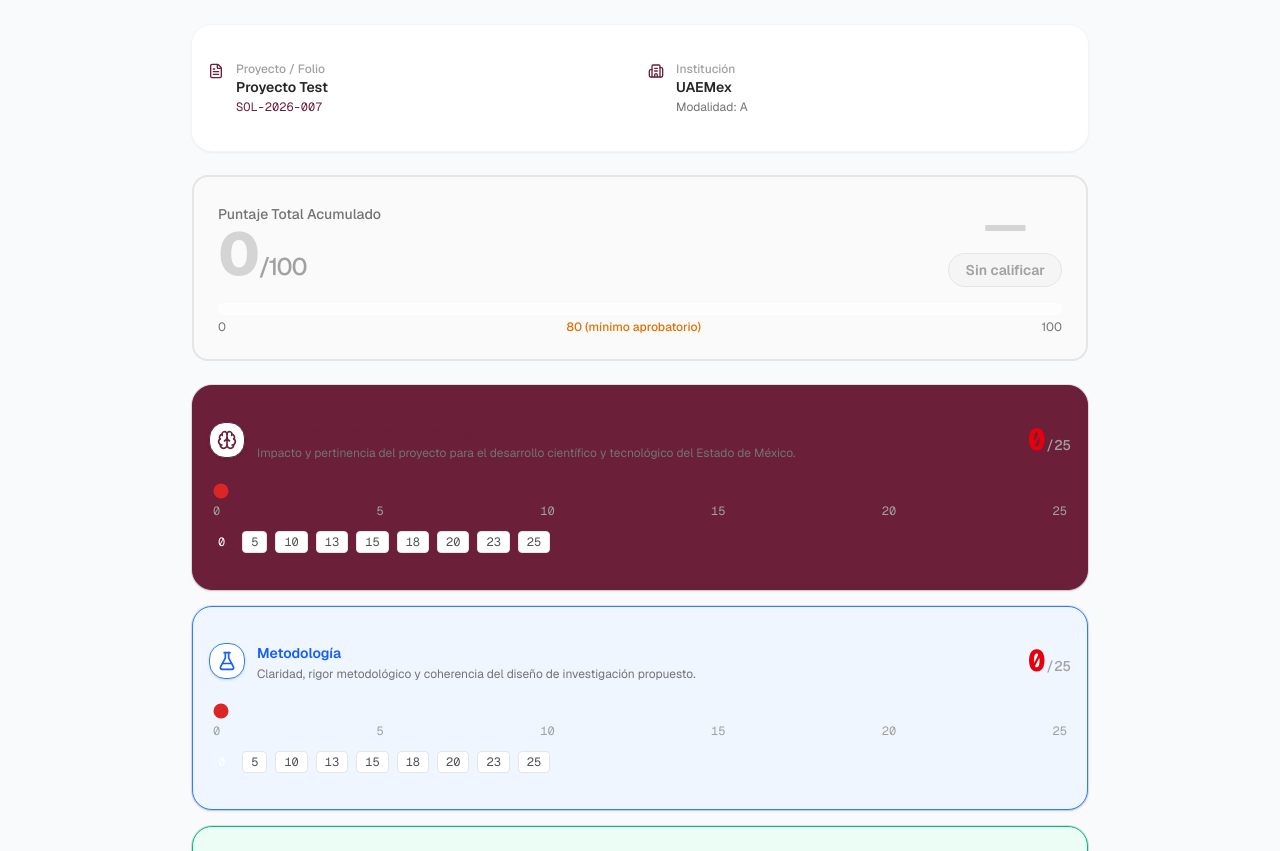
Test: RubricaEvaluacionPage › sumar puntajes vía los sliders calcula correctamente el total
Check: the text "Proyecto Test" is shown, box [236,77,328,97]
Set the slider below "Relevancia Científica / Tecnológica" to "20": (891, 490) [213,486,1067,494]
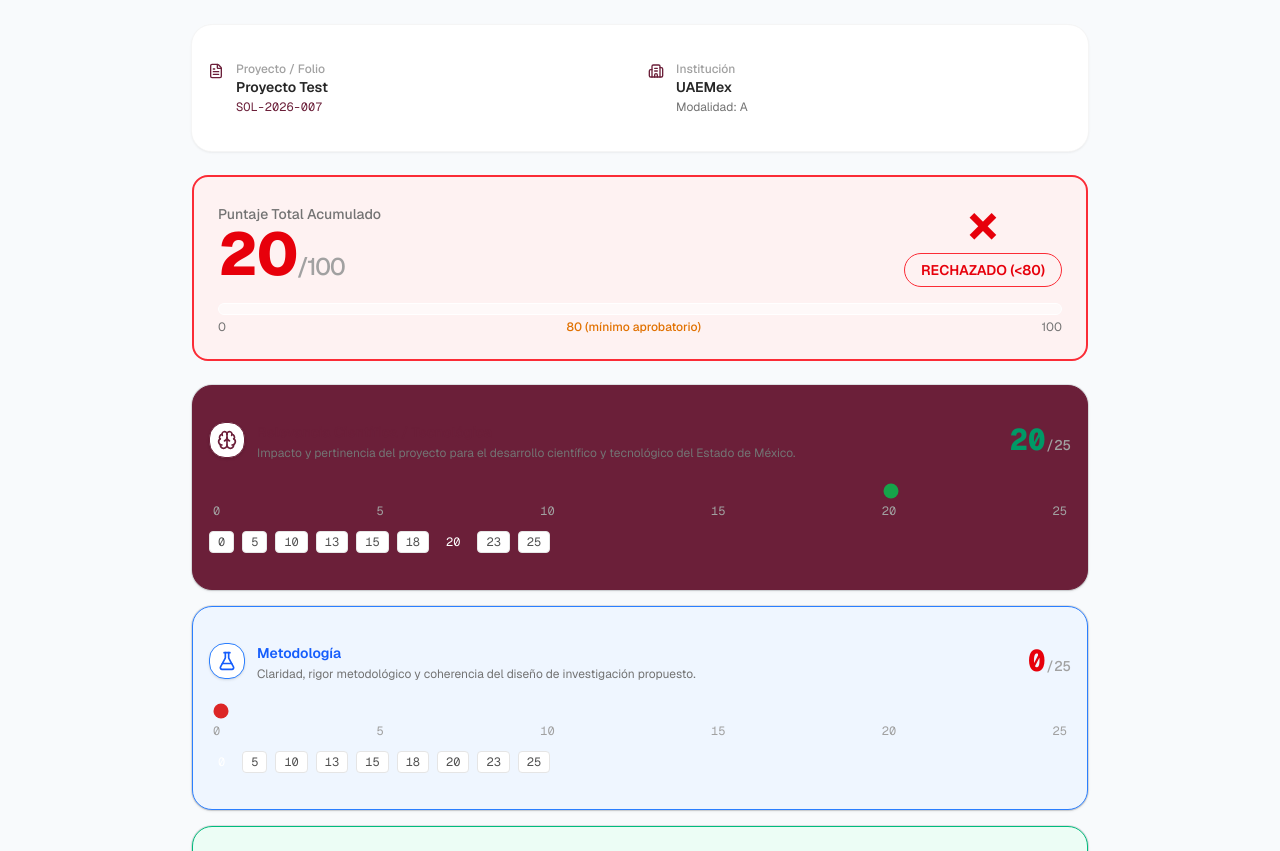
Set the slider below "Metodología" to "15": (724, 711) [213,707,1067,715]
(page scrolled)
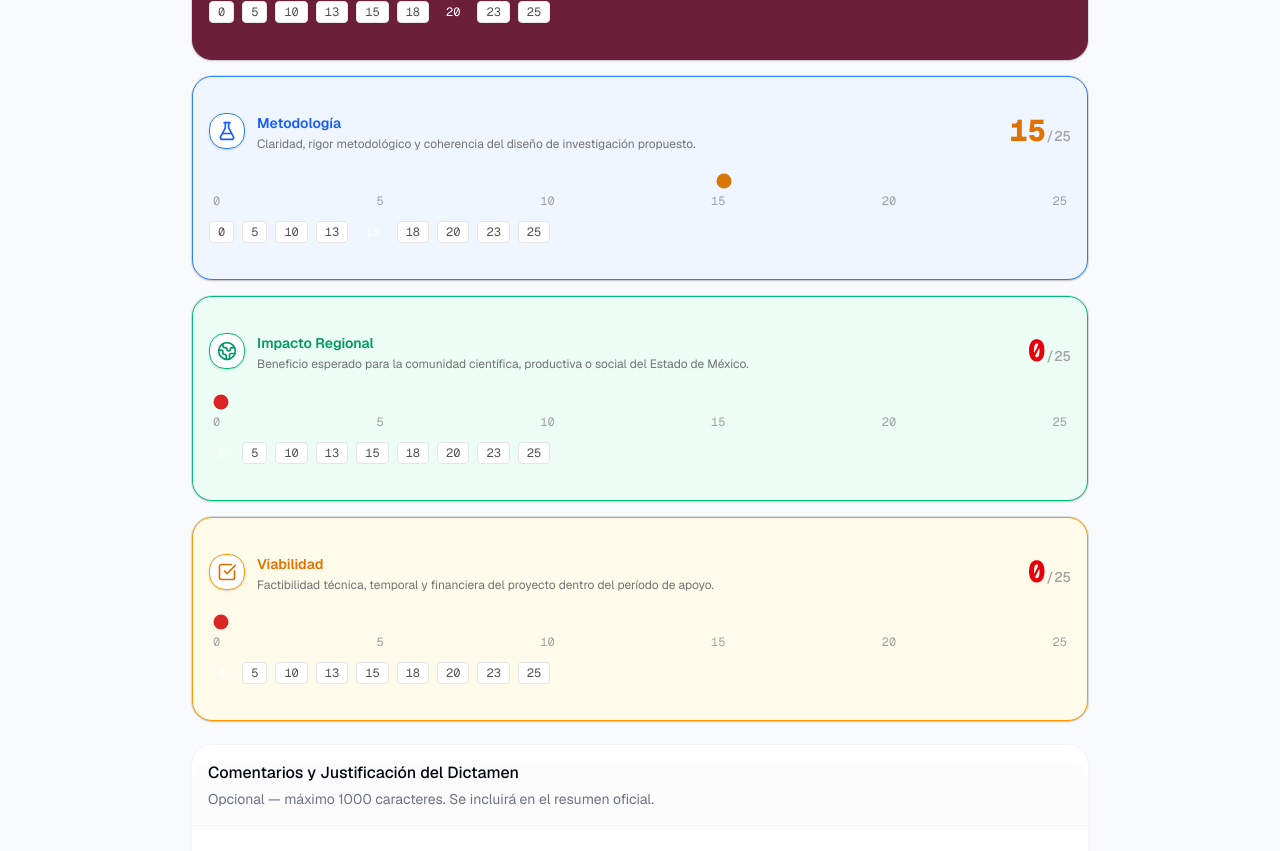
Set the slider below "Impacto Regional" to "25": (1059, 402) [213,398,1067,406]
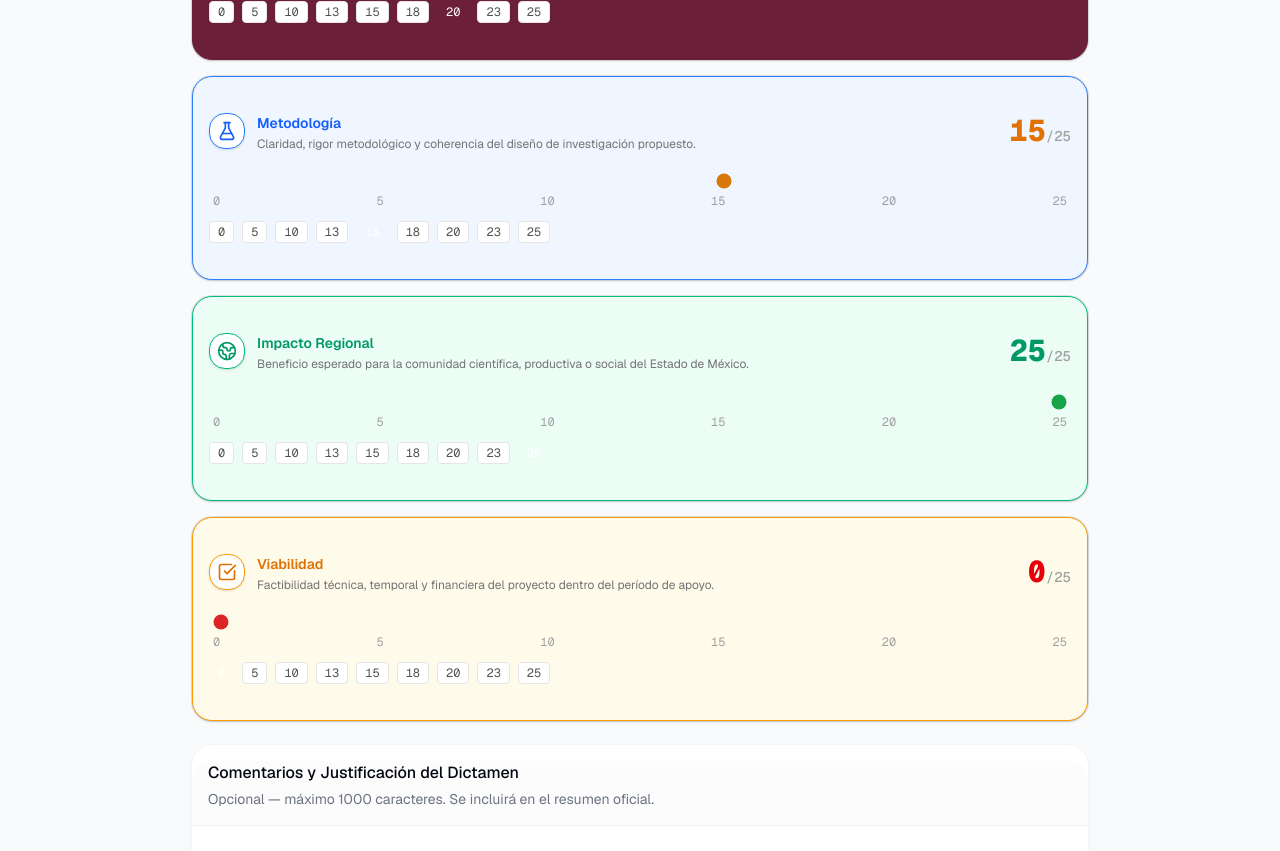
Set the slider below "Viabilidad" to "10": (556, 622) [213,618,1067,626]
(page scrolled)
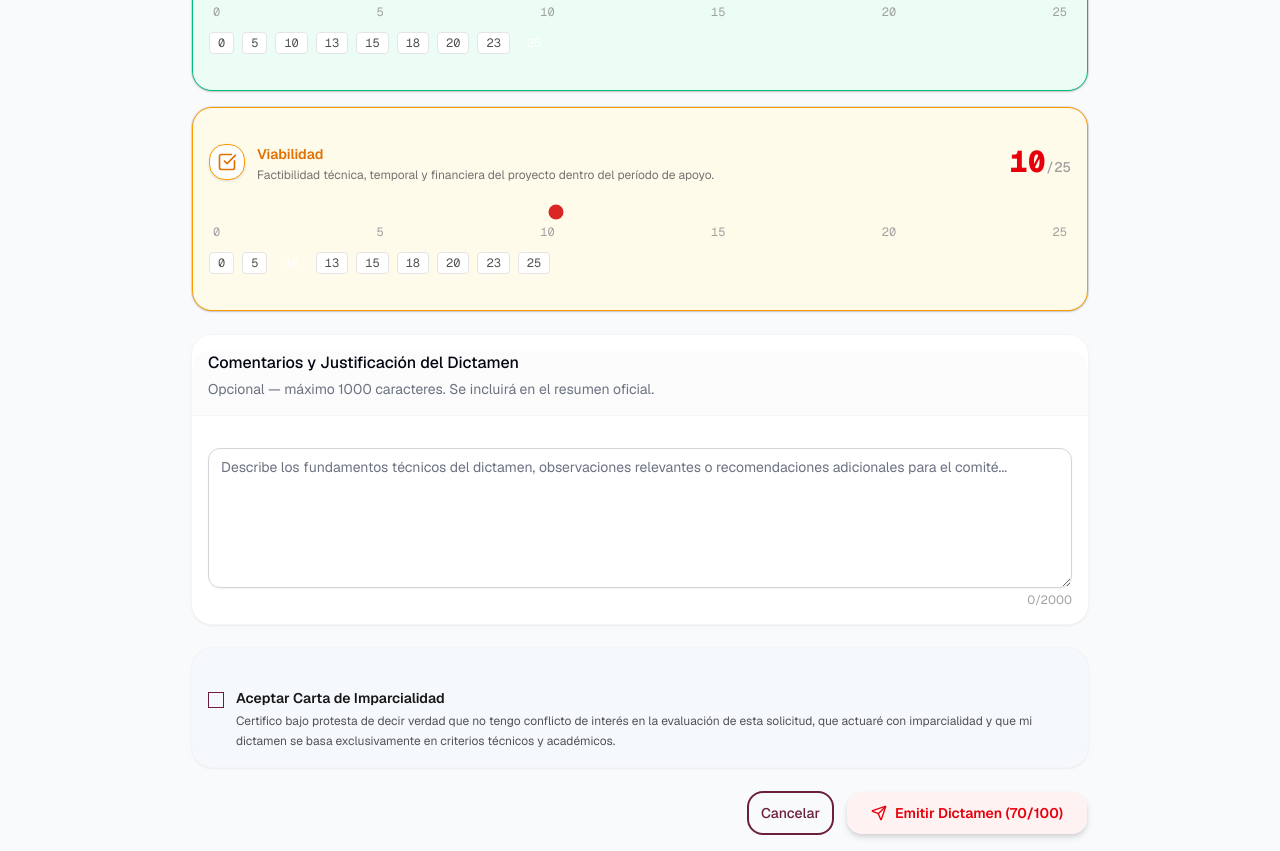
Check: the button "Emitir Dictamen (70/100)" is shown, box [846,791,1088,835]
